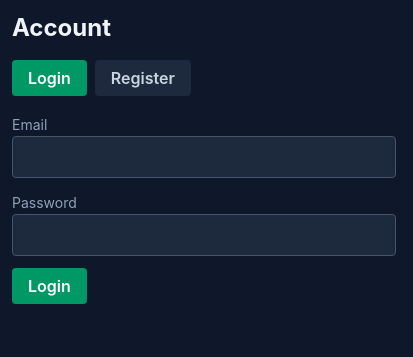
Test: register › surfaces a sign-up error
Click the button "Register" at {"x": 143, "y": 78}, box [95,60,191,96]
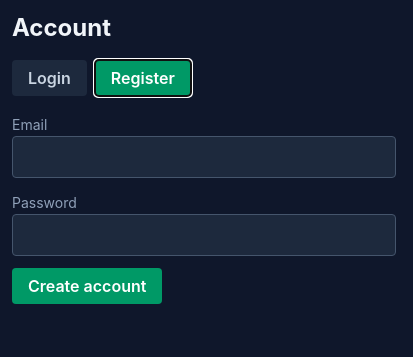
Type "dup@example.com" into the field labelled "Email" at {"x": 204, "y": 157}, box [12,136,396,178]
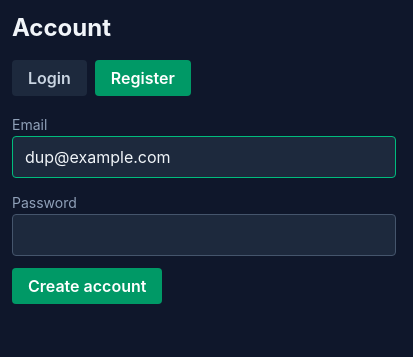
Type "secret1" into the password field labelled "Password" at {"x": 204, "y": 235}, box [12,214,396,256]
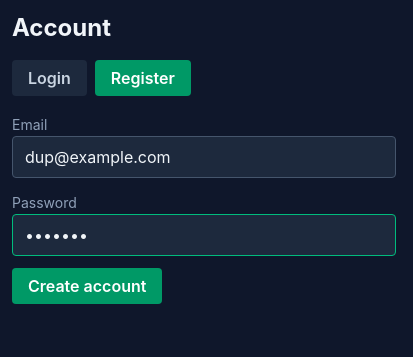
Click the button with test id "auth-submit" at {"x": 87, "y": 286}, box [12,268,162,304]
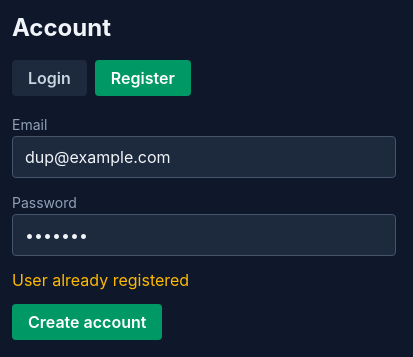
Result: the text with test id "auth-error" reads "User already registered" at [12,270,189,290]
